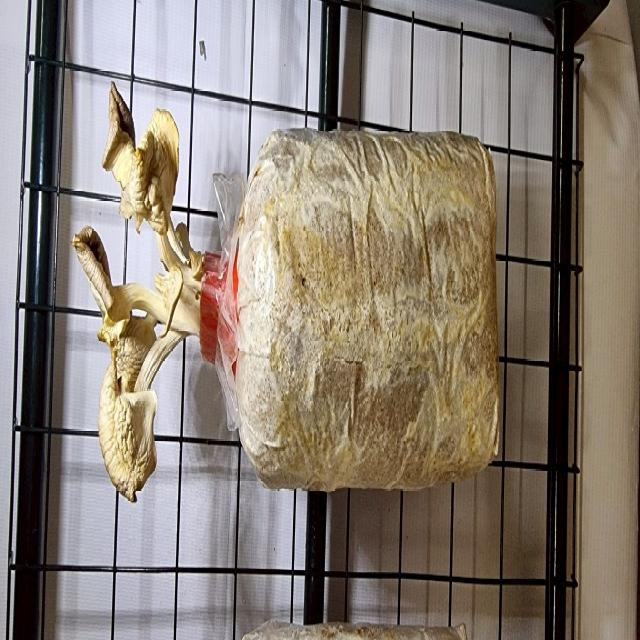abnormal: (98, 332, 172, 506), (136, 115, 183, 239), (100, 87, 139, 213), (71, 224, 120, 320)
